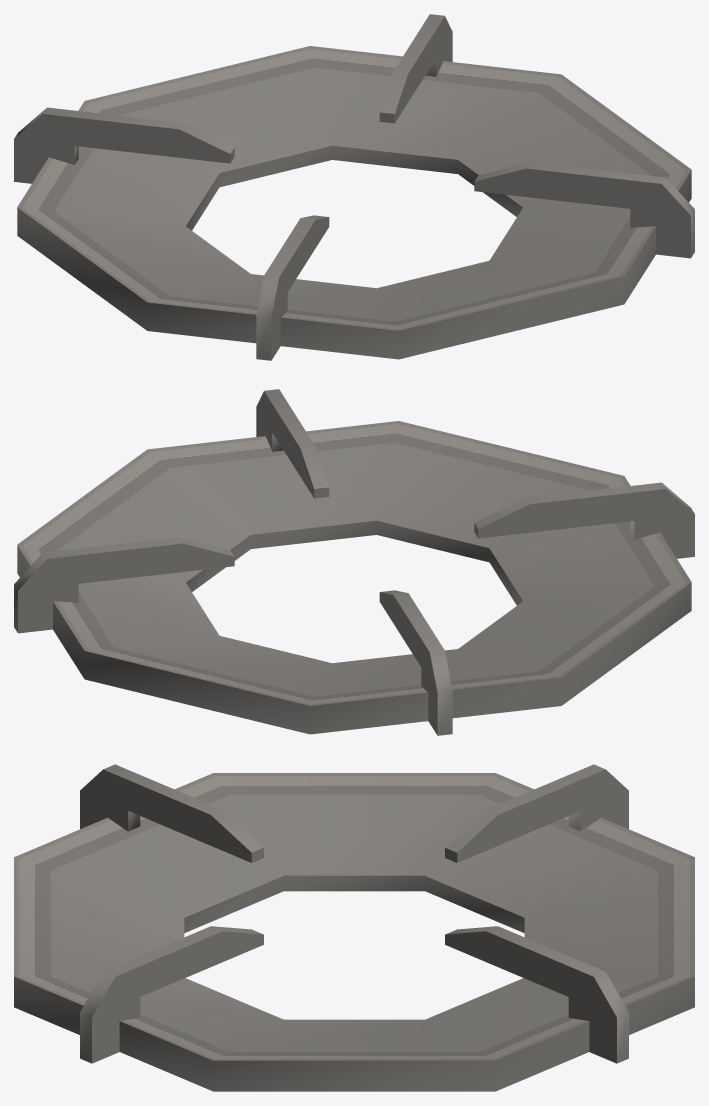
Rendered from 009c_Gas_Range.glb.
The picture shows the model from 3 angles, top to bottom: view 1: azimuth 30°, elevation 25°; view 2: azimuth 150°, elevation 25°; view 3: azimuth 270°, elevation 25°; orthographic projection. The views are drawn at different scales.
Parts seen in each view (by area): view 1: part_0; view 2: part_0; view 3: part_0.
Boxes of the visible parts, x1,y1,x2,y2 form: part_0: (14, 14, 694, 360); part_0: (14, 389, 694, 735); part_0: (14, 764, 694, 1091).
Size of the model in its own units: 0.2 by 0.03 by 0.2.
1 material, 1 textured.
